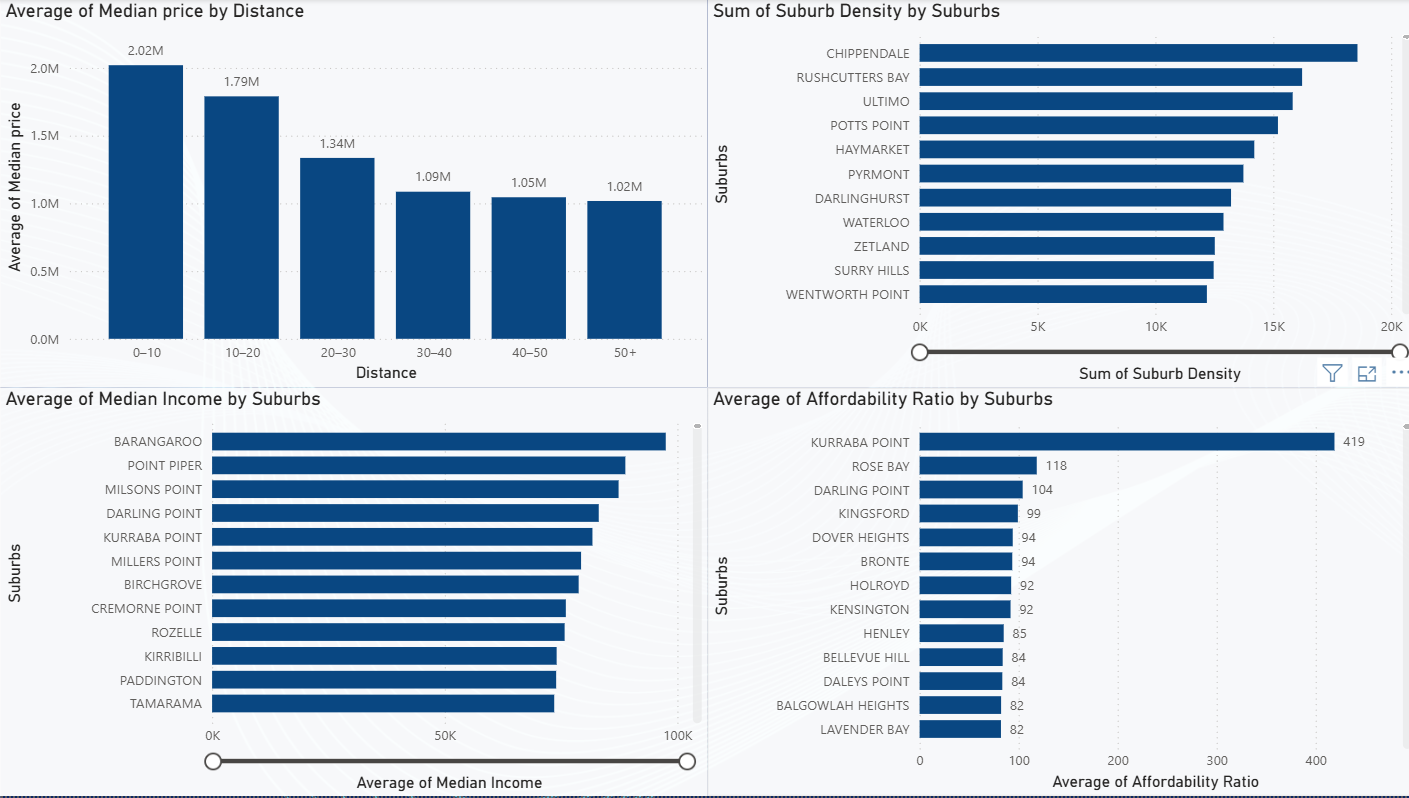

Layout of this report page (visuals, bound fields, positions):
{"tool":"powerbi","page":{"name":"Page 2","canvas":[1280,720],"ordinal":1},"visuals":[{"type":"barChart","fields":{"Category":["kpi_income_price.Suburbs"],"Y":["Avg(Median Income Price.Median Income)"]},"box":[0,351.2,639.1,369.2],"z":0},{"type":"barChart","fields":{"Category":["kpi_density_price.Suburbs"],"Y":["Sum(Suburbs Density Price.Suburb Density)"]},"box":[639.5,0,640.8,351],"z":1000},{"type":"barChart","fields":{"Category":["kpi_affordability.Suburbs"],"Y":["Avg(kpi_affordability.Affordability Ratio)"]},"box":[639.1,351.2,641.4,369.2],"z":2000},{"type":"columnChart","fields":{"Category":["kpi_price_distance.Distance"],"Y":["Avg(kpi_price_distance.Median price)"]},"box":[0,0,639.5,351],"z":3000}]}

Visuals, with their boxes in screenshot pixels (x1, y1, x2, y2), scaled from the page's 1280x720 canvas onto the 1409x798 screenshot:
barChart - kpi_income_price.Suburbs x Avg(Median Income Price.Median Income): pyautogui.locateOnScreen(0, 389, 704, 797)
barChart - kpi_density_price.Suburbs x Sum(Suburbs Density Price.Suburb Density): pyautogui.locateOnScreen(704, 0, 1408, 389)
barChart - kpi_affordability.Suburbs x Avg(kpi_affordability.Affordability Ratio): pyautogui.locateOnScreen(704, 389, 1408, 797)
columnChart - kpi_price_distance.Distance x Avg(kpi_price_distance.Median price): pyautogui.locateOnScreen(0, 0, 704, 389)
